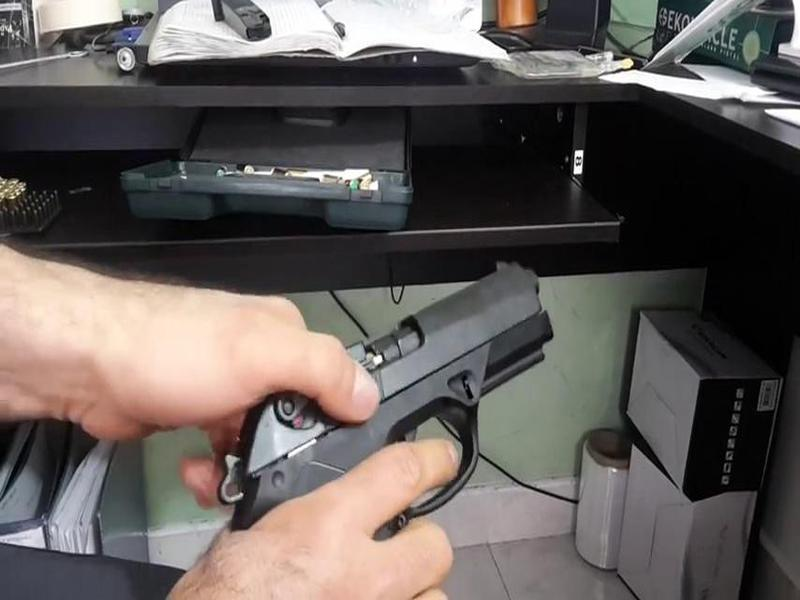Pistola: (215, 237, 565, 530)
